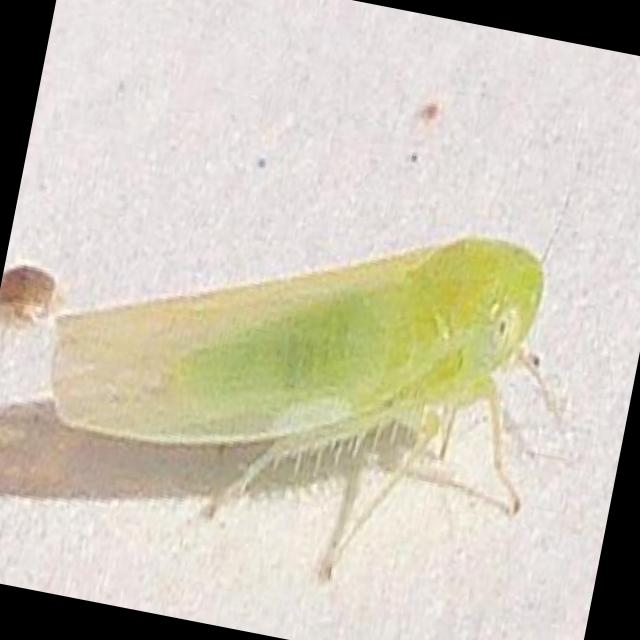green-leafhopper: (51, 239, 561, 583)
